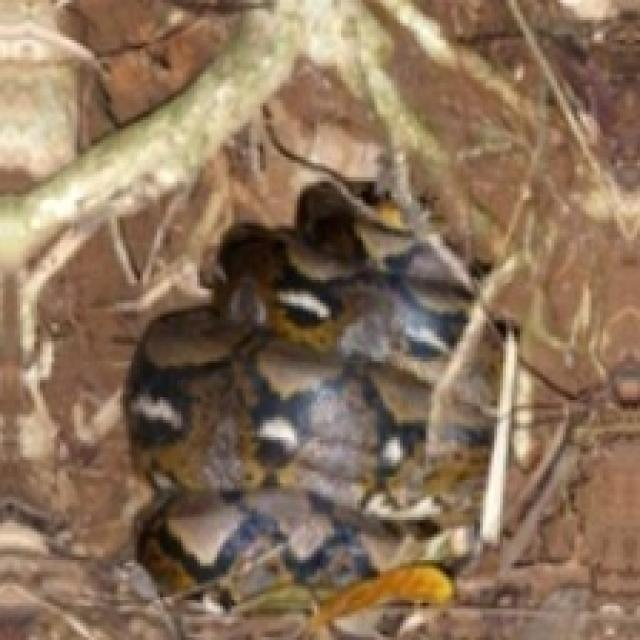reticulated python: (126, 163, 486, 637)
